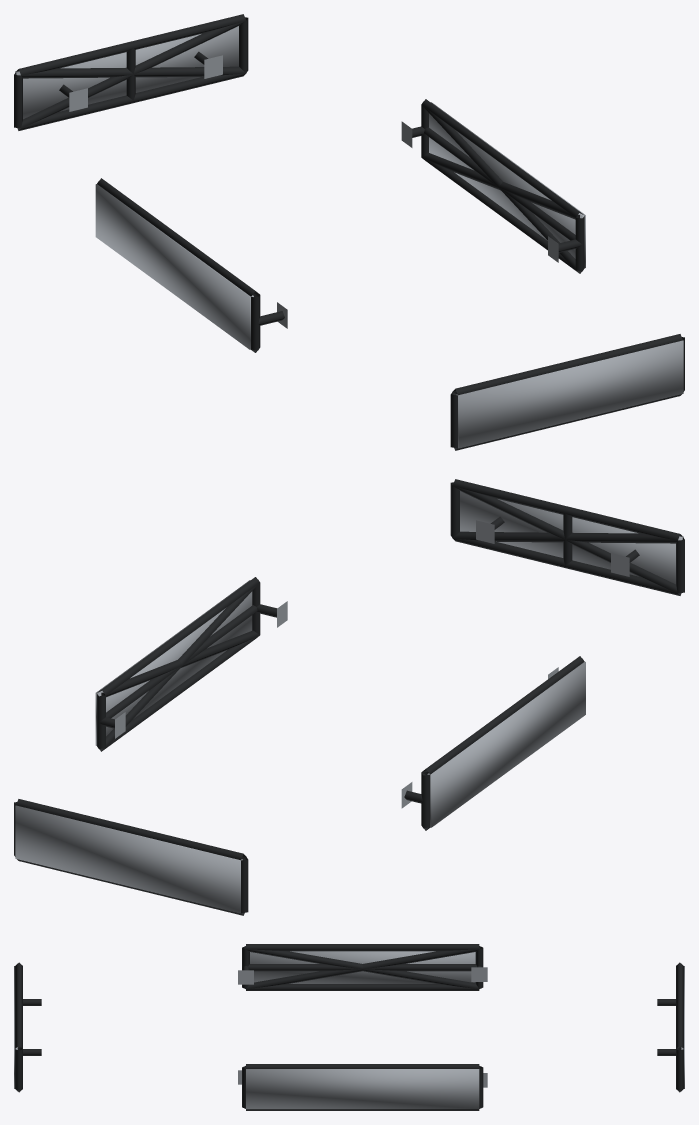
File: norrvik_anfora_protecao.glb
The picture shows the model from 3 angles, top to bottom: view 1: azimuth 30°, elevation 25°; view 2: azimuth 150°, elevation 25°; view 3: azimuth 270°, elevation 25°; orthographic projection. The views are drawn at different scales.
Parts seen in each view (by area): view 1: Protection_front_Level3_Details, Protection_left_Level3_Details, Protection_rear_Level1_Details, Protection_rear_Level3_Details, Protection_right_Level1_Details, Protection_rear_Level2_Details, Protection_right_Level2_Details, Protection_right_Level3_Details, Protection_front_Level1_Details, Protection_left_Level1_Details; view 2: Protection_rear_Level3_Details, Protection_left_Level3_Details, Protection_front_Level1_Details, Protection_front_Level3_Details, Protection_right_Level1_Details, Protection_front_Level2_Details, Protection_right_Level2_Details, Protection_right_Level3_Details, Protection_rear_Level1_Details, Protection_left_Level1_Details; view 3: Protection_right_Level3_Details, Protection_left_Level2_Details, Protection_left_Level1_Details, Protection_left_Level3_Details, Protection_right_Level1_Details, Protection_rear_Level1_Details, Protection_front_Level1_Details.
Boxes of the visible parts, x1,y1,x2,y2 form: Protection_front_Level3_Details: [456, 340, 683, 448]; Protection_left_Level3_Details: [95, 184, 253, 349]; Protection_rear_Level1_Details: [14, 14, 248, 130]; Protection_rear_Level3_Details: [15, 26, 238, 119]; Protection_right_Level1_Details: [401, 99, 584, 273]; Protection_rear_Level2_Details: [16, 21, 245, 130]; Protection_right_Level2_Details: [421, 105, 583, 273]; Protection_right_Level3_Details: [429, 102, 585, 267]; Protection_front_Level1_Details: [450, 334, 684, 450]; Protection_left_Level1_Details: [97, 178, 287, 352]; Protection_rear_Level3_Details: [15, 805, 242, 913]; Protection_left_Level3_Details: [427, 662, 585, 827]; Protection_front_Level1_Details: [450, 479, 684, 595]; Protection_front_Level3_Details: [460, 491, 683, 584]; Protection_right_Level1_Details: [97, 577, 287, 751]; Protection_front_Level2_Details: [453, 486, 682, 595]; Protection_right_Level2_Details: [98, 583, 259, 750]; Protection_right_Level3_Details: [95, 580, 252, 745]; Protection_rear_Level1_Details: [14, 799, 248, 915]; Protection_left_Level1_Details: [401, 656, 584, 830]; Protection_right_Level3_Details: [246, 1069, 479, 1109]; Protection_left_Level2_Details: [245, 946, 479, 989]; Protection_left_Level1_Details: [238, 944, 487, 990]; Protection_left_Level3_Details: [250, 951, 475, 983]; Protection_right_Level1_Details: [238, 1064, 487, 1110]; Protection_rear_Level1_Details: [657, 962, 683, 1092]; Protection_front_Level1_Details: [15, 962, 41, 1092].
Bounding box in the file's own units: 2 × 0.354 × 4.57.
1 material, 1 textured.
